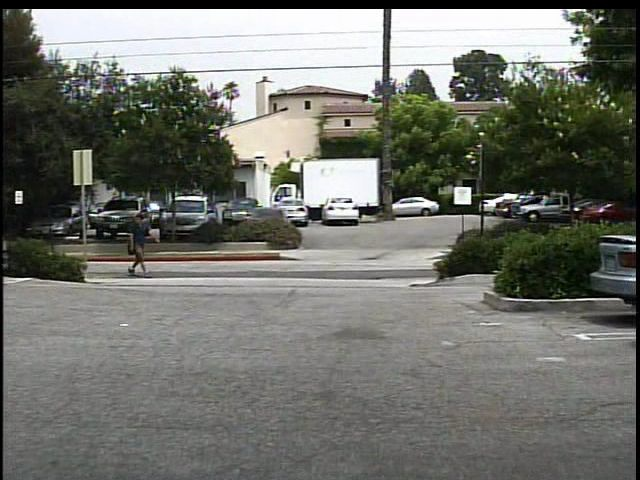person: (124, 209, 158, 278)
